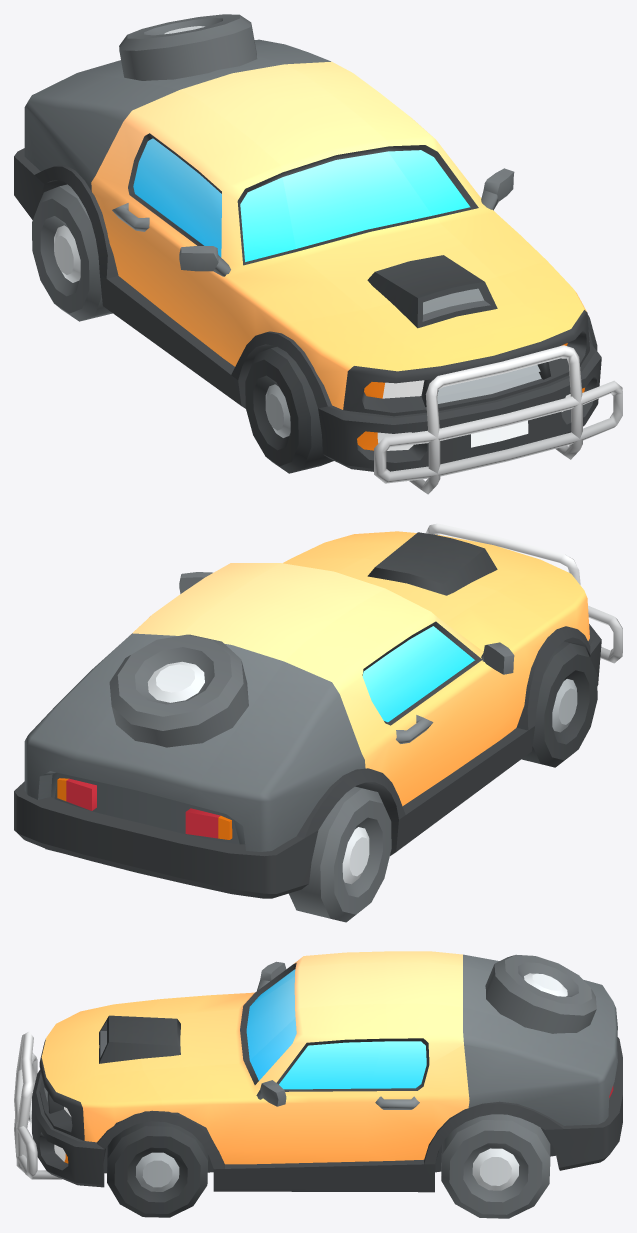
File: Car_29.glb
3 views of the same model, one above another, from view 1: azimuth 30°, elevation 25°; view 2: azimuth 150°, elevation 25°; view 3: azimuth 270°, elevation 25° (orthographic). The views are drawn at different scales.
Parts seen in each view (by area): view 1: Car_29, Wheel_045, Wheel_046; view 2: Car_29, Wheel_046, Wheel_045; view 3: Car_29, Wheel_048, Wheel_047.
Part boxes in pixels (x1,y1,x2,y2): Car_29: [14, 14, 622, 494]; Wheel_045: [245, 346, 333, 473]; Wheel_046: [32, 184, 112, 321]; Car_29: [14, 523, 622, 898]; Wheel_046: [289, 786, 391, 922]; Wheel_045: [521, 641, 597, 767]; Car_29: [14, 951, 622, 1192]; Wheel_048: [441, 1114, 550, 1218]; Wheel_047: [107, 1121, 208, 1217].
Size of the model in its own units: 2.49 by 1.76 by 4.87.
2 materials, 2 textured.
